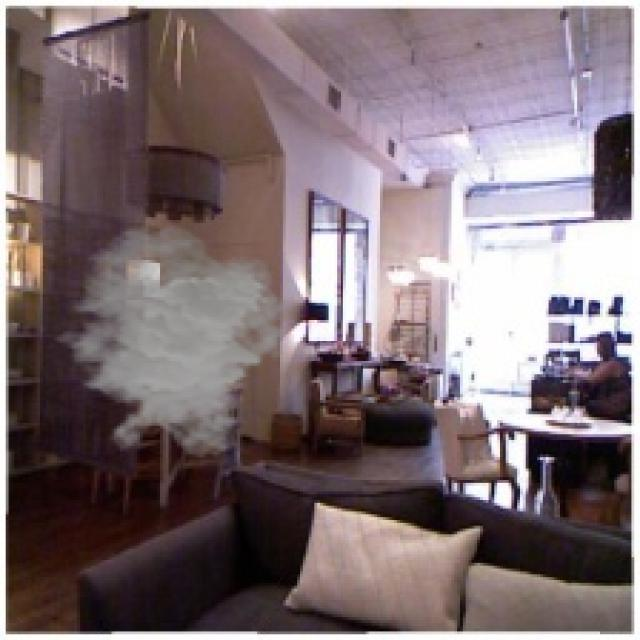Smoke: (45, 223, 298, 460)
